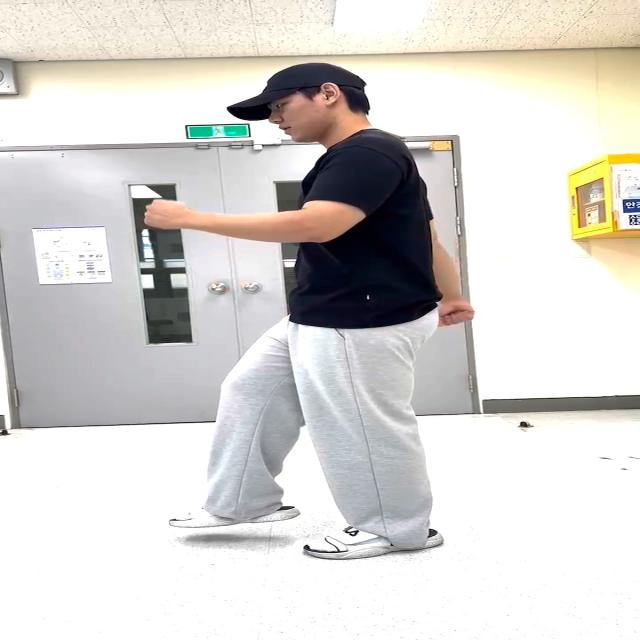leg: (190, 333, 299, 523)
